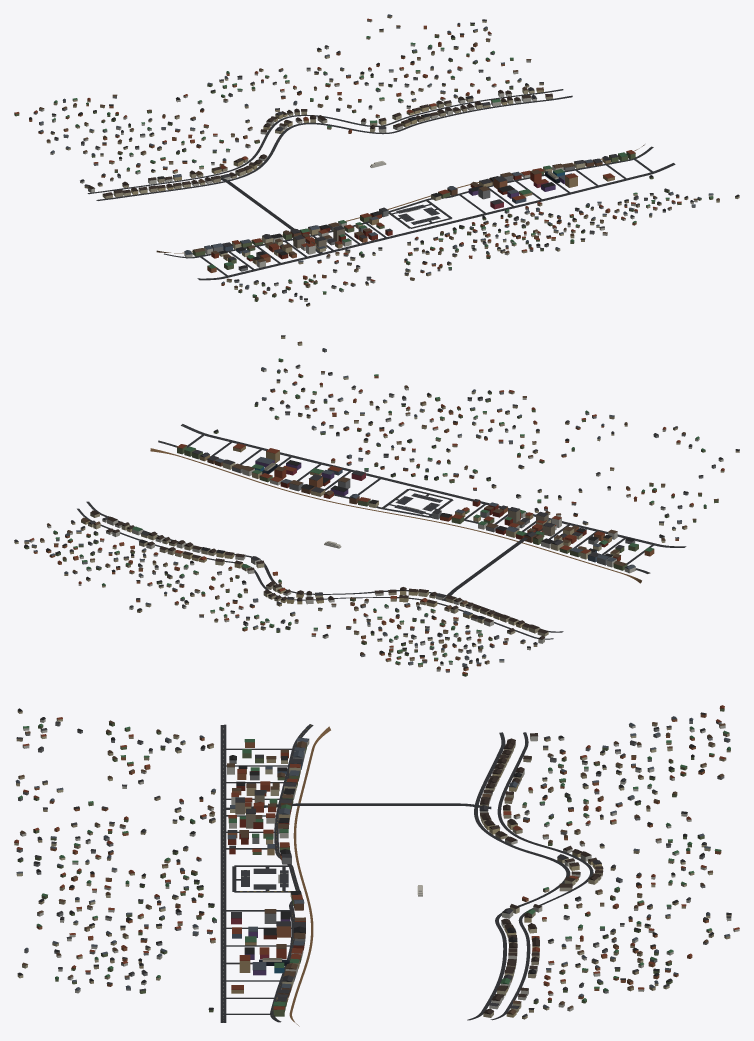
File: Branson_City.glb
The picture shows the model from 3 angles, top to bottom: view 1: azimuth 30°, elevation 25°; view 2: azimuth 150°, elevation 25°; view 3: azimuth 270°, elevation 25°; orthographic projection. The views are drawn at different scales.
Visible parts, largest first — view 1: BR_Buildings, BR_Roads; view 2: BR_Buildings, BR_Roads; view 3: BR_Buildings, BR_Roads.
Boxes of the visible parts, left/top/right/bottom form: BR_Buildings: left=14, top=14, right=739, bottom=306; BR_Roads: left=87, top=89, right=675, bottom=280; BR_Buildings: left=14, top=335, right=739, bottom=676; BR_Roads: left=77, top=424, right=686, bottom=639; BR_Buildings: left=14, top=705, right=739, bottom=1019; BR_Roads: left=220, top=724, right=593, bottom=1026.
Bounding box in the file's own units: 1444 × 115 × 1486.
